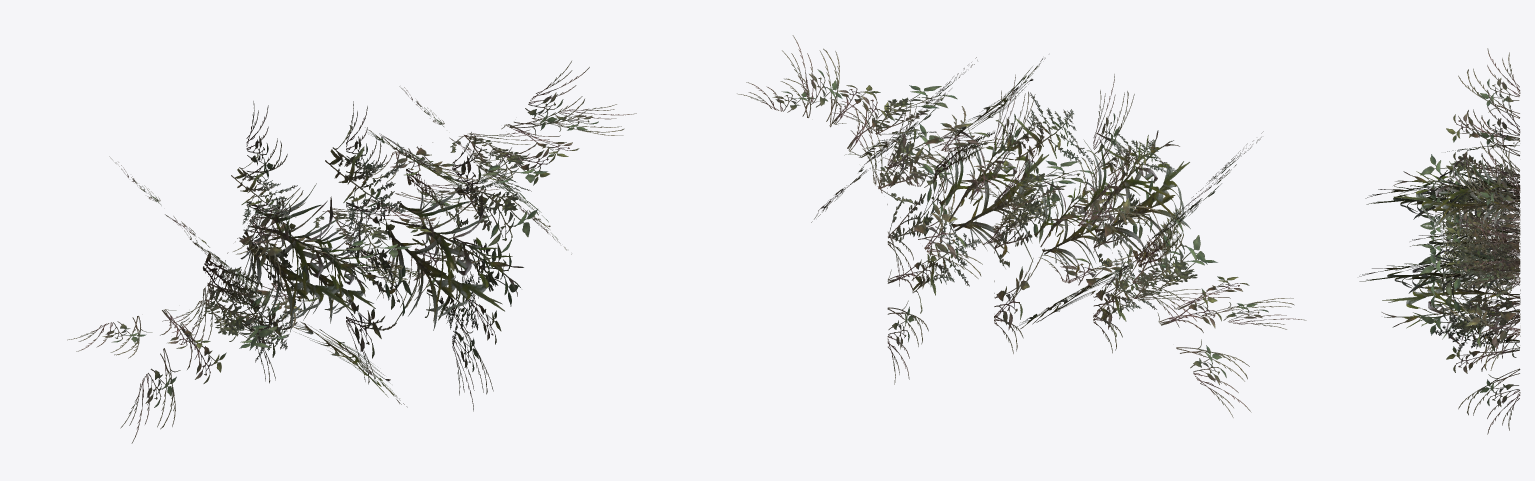
The model's file is t5_foliage_shrubs02_LOD1.obj.
3 renders of one model, left to right at view 1: azimuth 30°, elevation 25°; view 2: azimuth 150°, elevation 25°; view 3: azimuth 270°, elevation 25°, orthographic. The views are drawn at different scales.
Visible parts, largest first — view 1: t5_foliage_grass_leafy01_static, t5_foliage_shrub_leaf01; view 2: t5_foliage_grass_leafy01_static, t5_foliage_shrub_leaf01; view 3: t5_foliage_grass_leafy01_static, t5_foliage_shrub_leaf01.
Boxes of the visible parts, box(x1,y1,x2,y2) form: t5_foliage_grass_leafy01_static: box(67, 61, 636, 443); t5_foliage_shrub_leaf01: box(203, 125, 531, 407); t5_foliage_grass_leafy01_static: box(737, 35, 1306, 417); t5_foliage_shrub_leaf01: box(844, 58, 1190, 337); t5_foliage_grass_leafy01_static: box(1420, 48, 1520, 434); t5_foliage_shrub_leaf01: box(1359, 142, 1520, 357).
Size of the model in its own units: 575 by 378 by 171.
